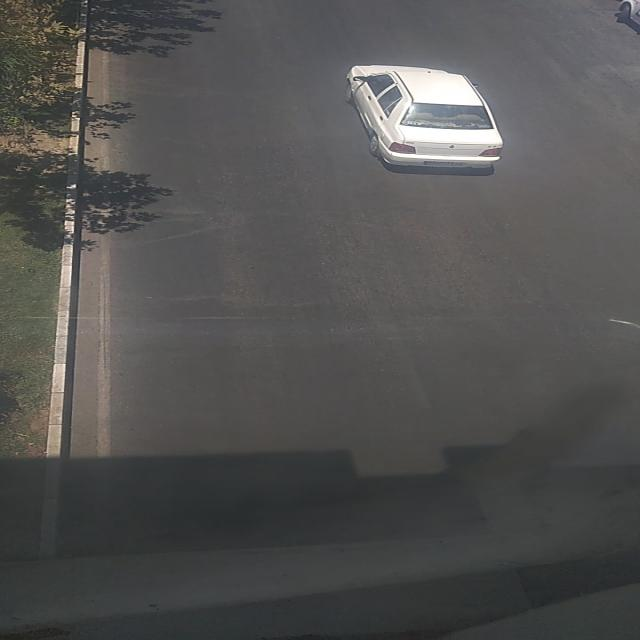car: (344, 62, 503, 170)
